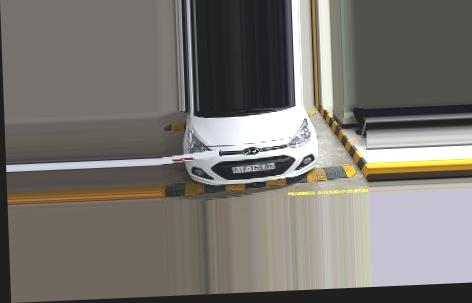License_Plate: (230, 161, 277, 173)
